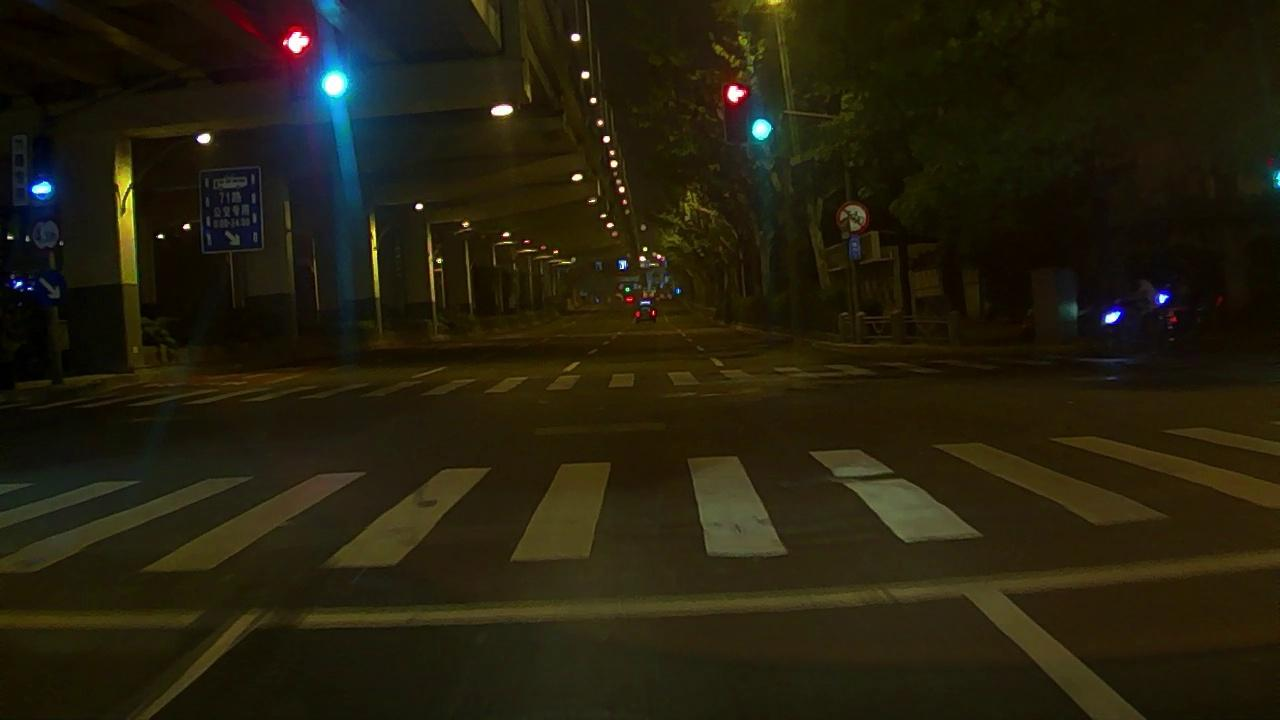traffic_light: (725, 86, 747, 142), (321, 71, 347, 97), (284, 30, 312, 53), (751, 120, 773, 140)
